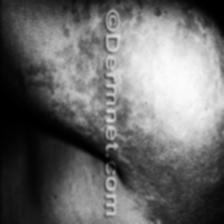Potentially Malignant Skin Tumors: (130, 66, 224, 224), (52, 1, 104, 140), (131, 5, 204, 61), (118, 20, 128, 168)
